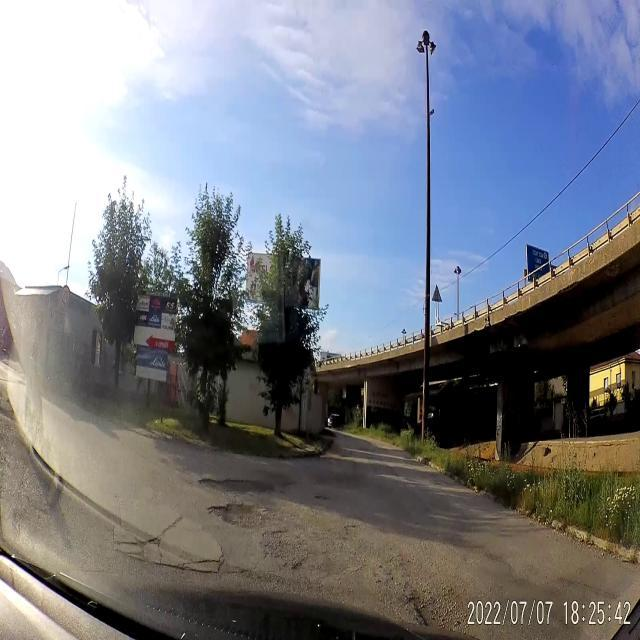Pothole: (404, 569, 464, 631), (208, 487, 274, 532), (198, 469, 269, 496), (148, 534, 162, 548), (290, 560, 304, 574), (313, 492, 331, 502), (342, 521, 358, 532)
